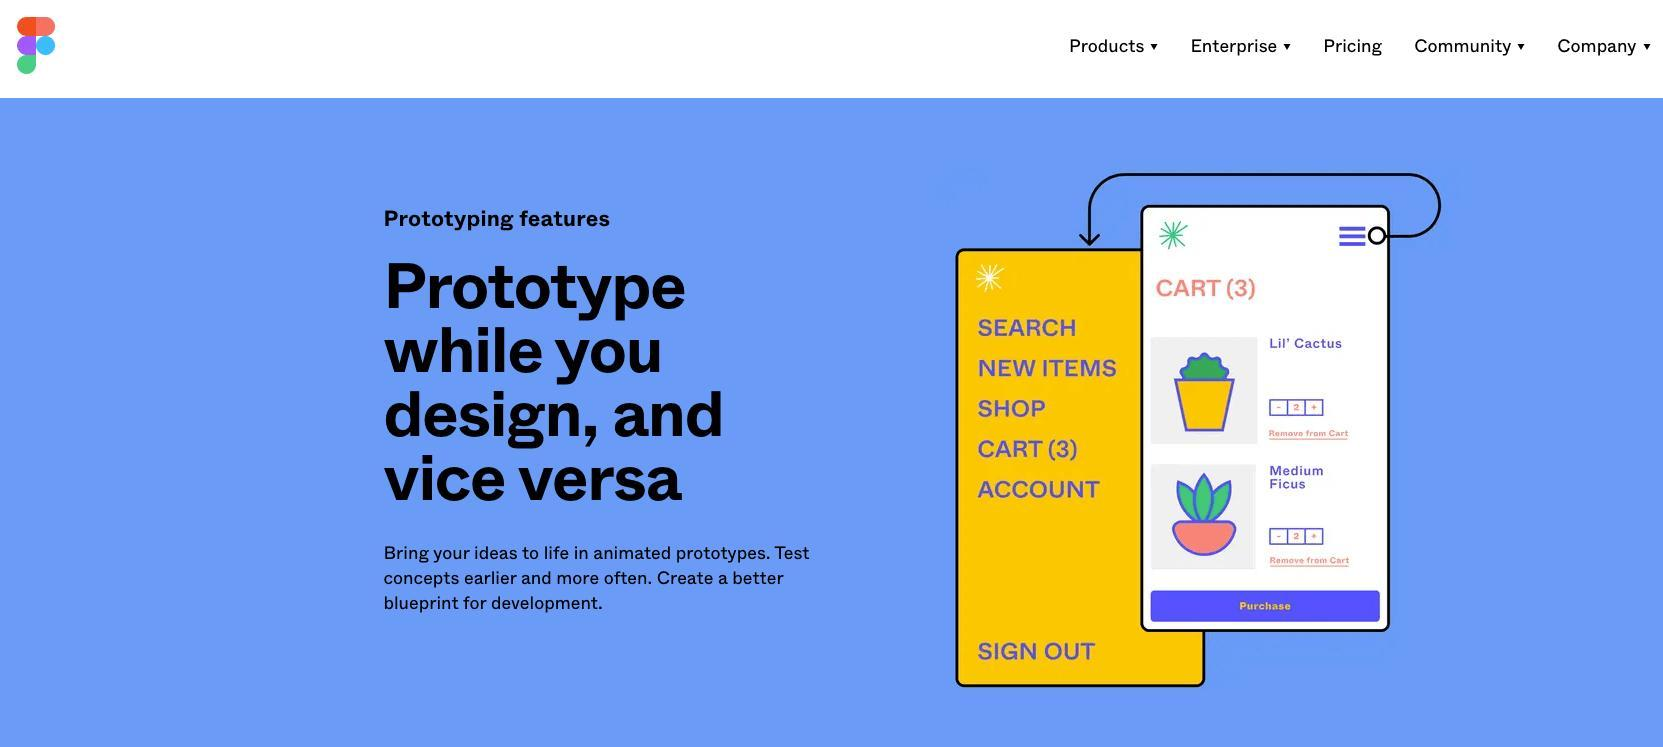button: (1149, 589, 1382, 622)
icon: (1336, 225, 1368, 249)
label: (977, 358, 1119, 381), (978, 476, 1101, 502), (976, 315, 1080, 343), (1157, 278, 1259, 305), (977, 440, 1082, 464), (1554, 35, 1641, 60), (1410, 37, 1517, 57), (1062, 36, 1150, 59), (1190, 38, 1281, 59), (1265, 334, 1347, 353), (1271, 463, 1327, 490), (974, 400, 1048, 420), (1323, 37, 1386, 60), (1270, 427, 1350, 442), (1270, 557, 1350, 570)
